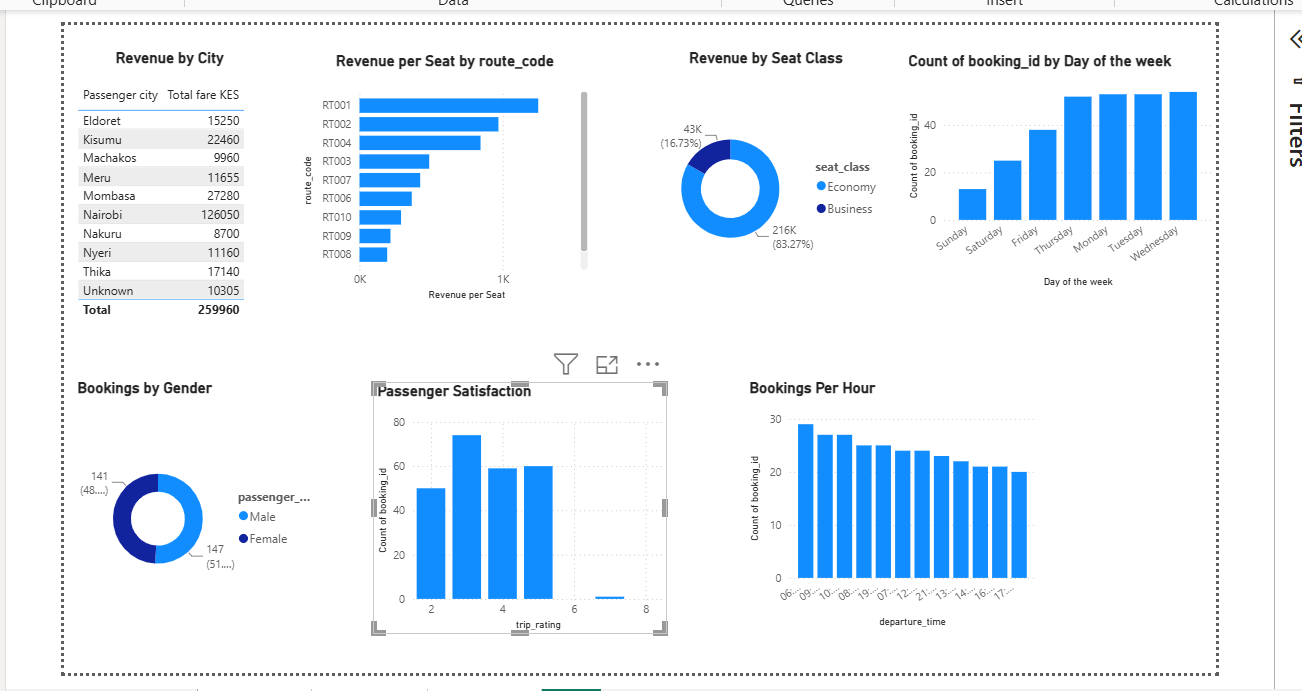

This screenshot's page, from the dashboard's own definition file:
{"tool":"powerbi","page":{"name":"Page 2","canvas":[1280,720],"ordinal":1},"visuals":[{"type":"tableEx","title":"Revenue by City","fields":{"Values":["safari_connect cleaned_trips (2).passenger_city","Sum(safari_connect cleaned_trips (2).total_fare)"]},"box":[10,26.7,215,330],"z":0},{"type":"clusteredBarChart","fields":{"Category":["safari_connect cleaned_trips (2).route_code"],"Y":["safari_connect cleaned_trips (2).Revenue per Seat"]},"box":[260,30,326.7,280],"z":1000},{"type":"donutChart","title":" Revenue by Seat Class","fields":{"Category":["safari_connect cleaned_trips (2).seat_class"],"Y":["Sum(safari_connect cleaned_trips (2).total_fare)"]},"box":[640,26.7,280,280],"z":2000},{"type":"donutChart","title":"Bookings by Gender","fields":{"Category":["safari_connect cleaned_trips (2).passenger_gender"],"Y":["CountNonNull(safari_connect cleaned_trips (2).booking_id)"]},"box":[10,393.3,280,280],"z":3000},{"type":"columnChart","title":"Passenger Satisfaction","fields":{"Category":["safari_connect cleaned_trips (2).trip_rating"],"Y":["CountNonNull(safari_connect cleaned_trips (2).booking_id)"]},"box":[343.3,396.7,326.7,280],"z":4000},{"type":"columnChart","title":"Bookings Per Hour","fields":{"Category":["safari_connect cleaned_trips (2).departure_time"],"Y":["CountNonNull(safari_connect cleaned_trips (2).booking_id)"]},"box":[756.7,393.3,326.7,280],"z":5000},{"type":"columnChart","fields":{"Y":["CountNonNull(safari_connect cleaned_trips (2).booking_id)"],"Category":["safari_connect cleaned_trips (2).Day of the week"]},"box":[933.3,30,346.5,265.6],"z":6000}]}

Visuals, with their boxes on the page's 1280x720 design canvas (x1, y1, x2, y2). These are canvas units, not pixel positions in the 1302x691 screenshot, which may show the page scaled, cropped or inside an application window:
"Revenue by City" tableEx: [10,27,225,357]
clusteredBarChart - safari_connect cleaned_trips (2).route_code x safari_connect cleaned_trips (2).Revenue per Seat: [260,30,587,310]
" Revenue by Seat Class" donutChart: [640,27,920,307]
"Bookings by Gender" donutChart: [10,393,290,673]
"Passenger Satisfaction" columnChart: [343,397,670,677]
"Bookings Per Hour" columnChart: [757,393,1083,673]
columnChart - CountNonNull(safari_connect cleaned_trips (2).booking_id) x safari_connect cleaned_trips (2).Day of the week: [933,30,1280,296]
